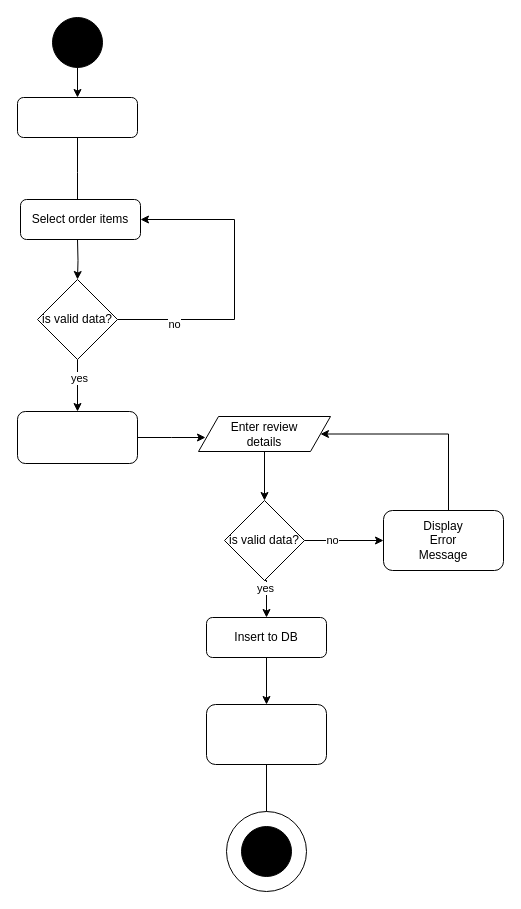
Some shapes in this 521 by 909 pixel diagram are drawn without their labels. The centre of each missing label's shape, as x and y in pixels:
"Display Confirmation Message" belongs at point 266,734.
"Display Review Details" belongs at point 77,437.
"Invoke Review" belongs at point 77,117.
